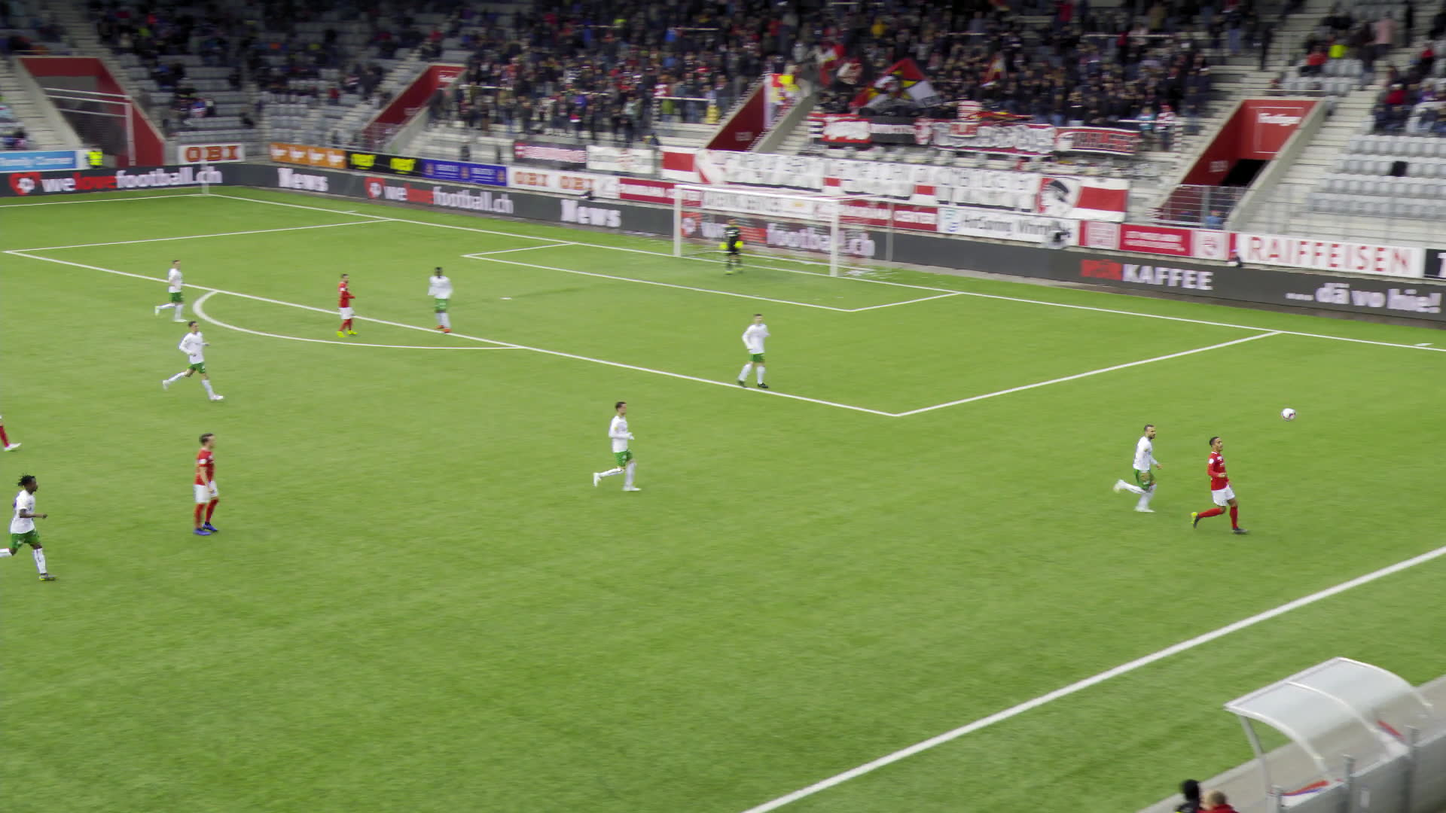ball: (1278, 408, 1297, 425)
player: (1183, 442, 1249, 537), (1105, 422, 1167, 511), (1, 471, 49, 583), (188, 433, 236, 535), (596, 396, 645, 492), (169, 321, 221, 403), (737, 314, 776, 388), (0, 355, 29, 450), (159, 256, 196, 323), (334, 273, 365, 339), (430, 265, 458, 333), (721, 218, 747, 276)
